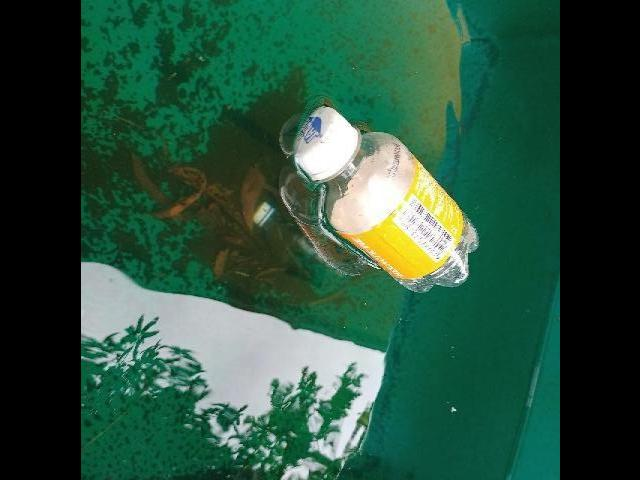Bottle: (282, 98, 483, 297)
